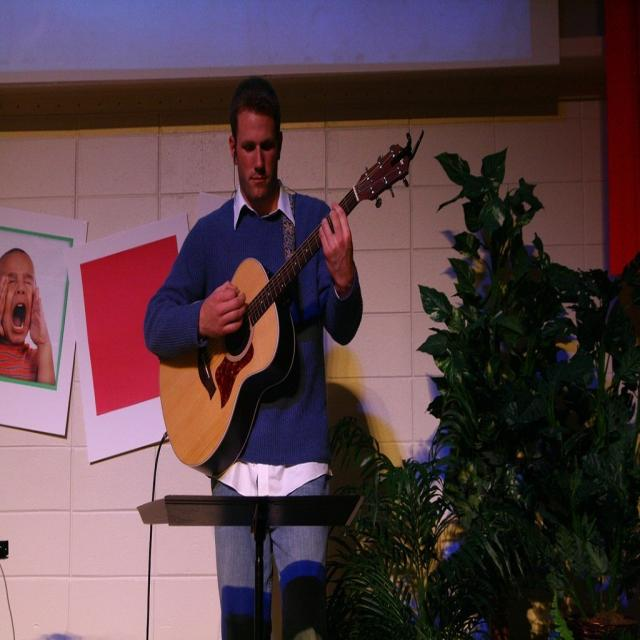guitar: (159, 140, 412, 482)
